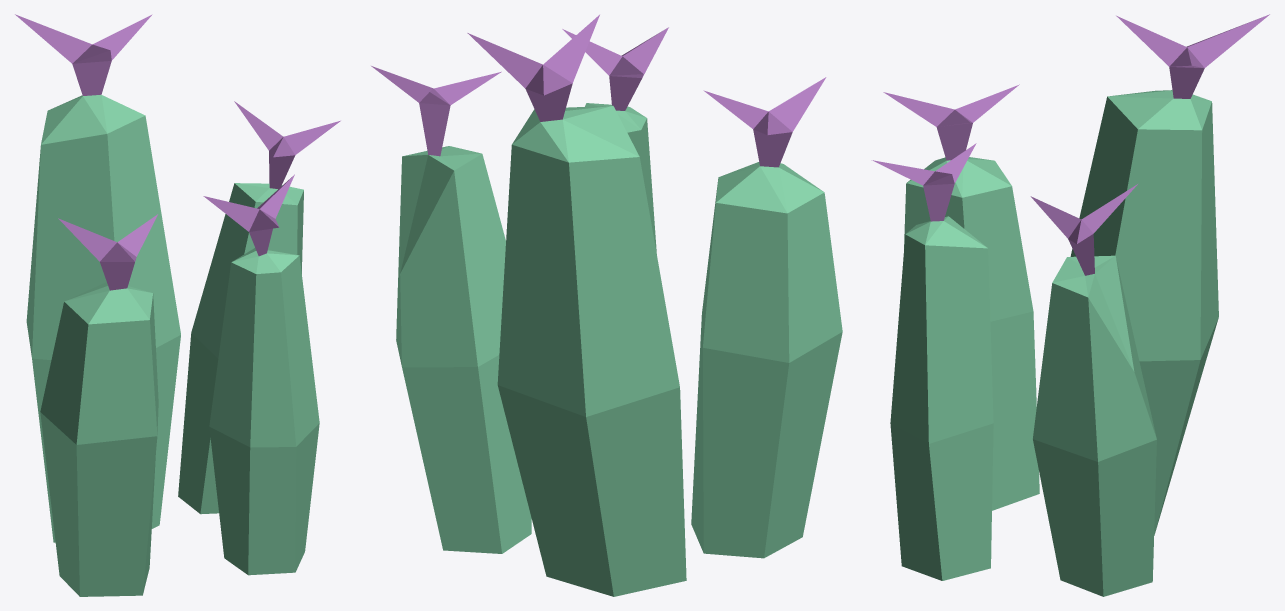
Rendered from Coral06.fbx.
3 views of the same model, side by side, from view 1: azimuth 30°, elevation 25°; view 2: azimuth 150°, elevation 25°; view 3: azimuth 270°, elevation 25° (orthographic). The views are drawn at different scales.
Visible parts, largest first — view 1: Coral06; view 2: Coral06; view 3: Coral06.
Part boxes in pixels (x1,y1,x2,y2): Coral06: (15,14,340,596); Coral06: (371,14,842,596); Coral06: (871,14,1269,596).
Size of the model in its own units: 1.15 by 1.55 by 1.11.
